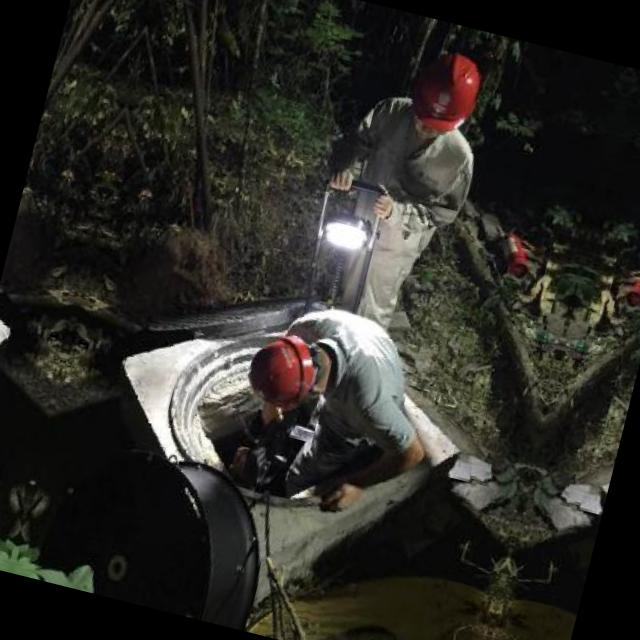helmet: (396, 38, 491, 144), (235, 322, 328, 412)
